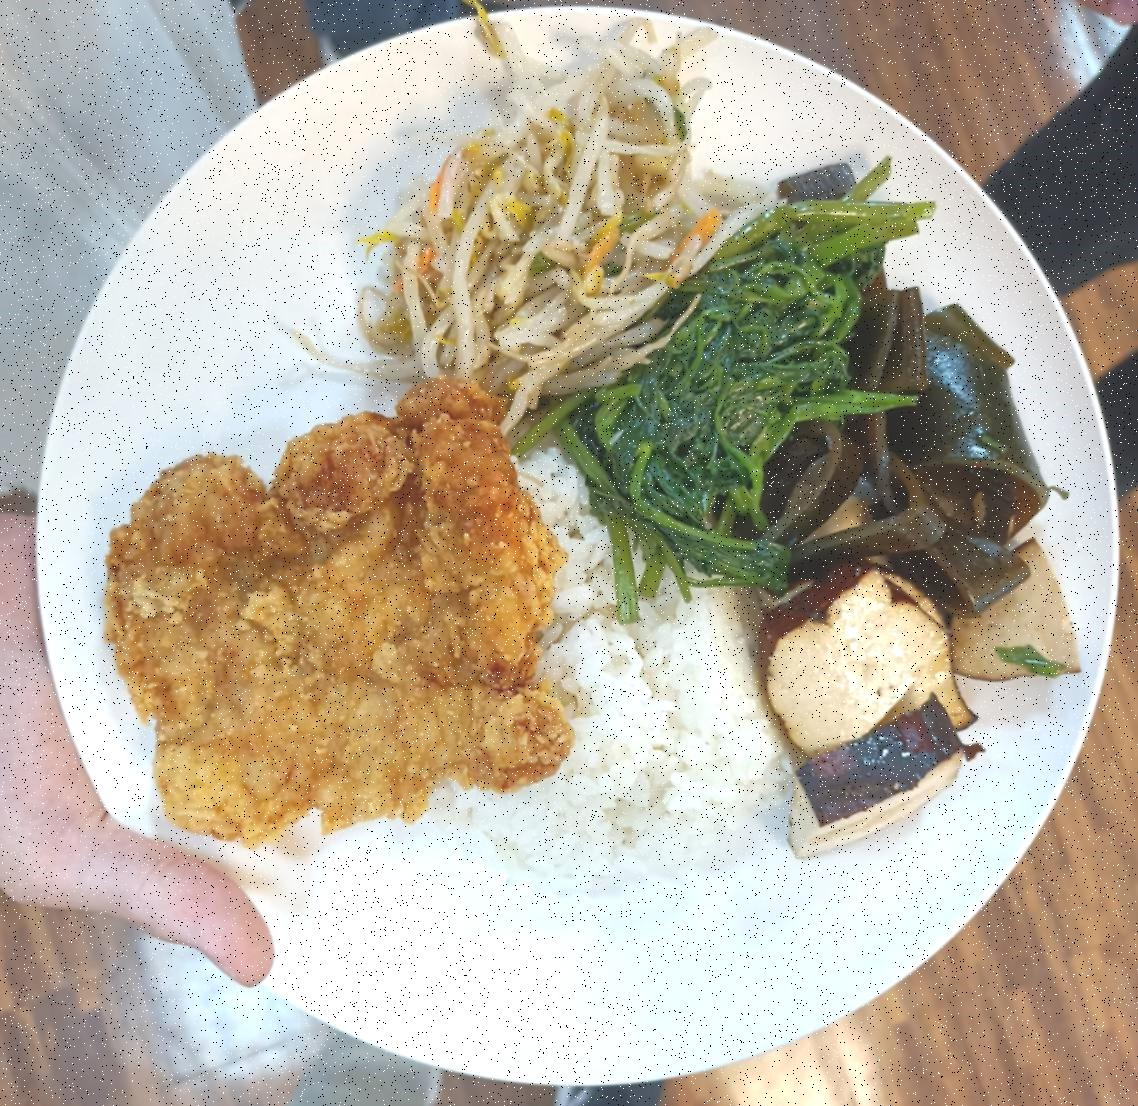kara chicken leg steak: (99, 383, 562, 844)
plate: (30, 13, 1133, 1094)
side dish: (767, 323, 1035, 838), (359, 61, 720, 390), (590, 210, 868, 568)
white rice: (377, 440, 772, 900)
